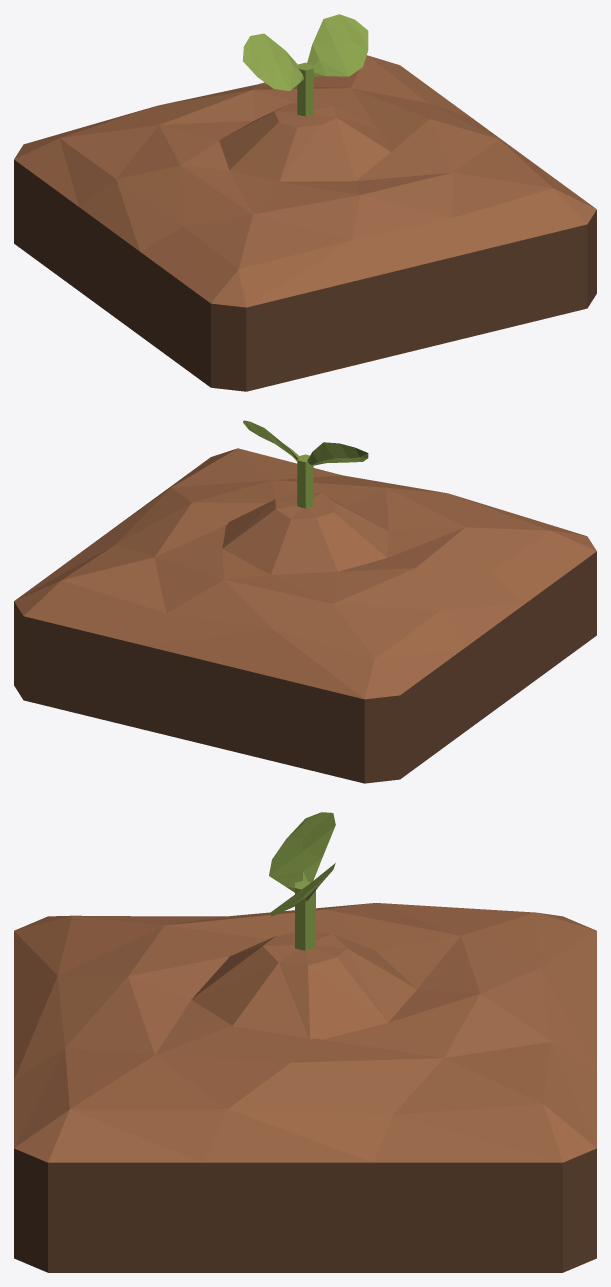
Rendered from KANJI_21_TSUCHI.fbx.
3 renders of one model, top to bottom at view 1: azimuth 30°, elevation 25°; view 2: azimuth 150°, elevation 25°; view 3: azimuth 270°, elevation 25°, orthographic. The views are drawn at different scales.
Parts seen in each view (by area): view 1: SM_KANJI_21_Tsuchi; view 2: SM_KANJI_21_Tsuchi; view 3: SM_KANJI_21_Tsuchi.
Boxes of the visible parts, x1,y1,x2,y2 form: SM_KANJI_21_Tsuchi: (14,14,596,391); SM_KANJI_21_Tsuchi: (14,420,596,783); SM_KANJI_21_Tsuchi: (14,812,596,1272).
Size of the model in its own units: 0.24 by 0.14 by 0.24.
